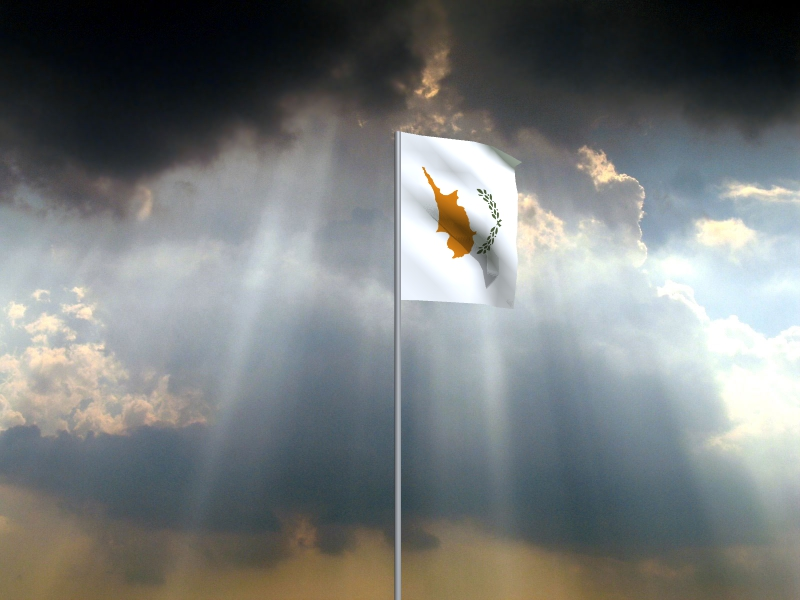cy: (401, 132, 523, 311)
